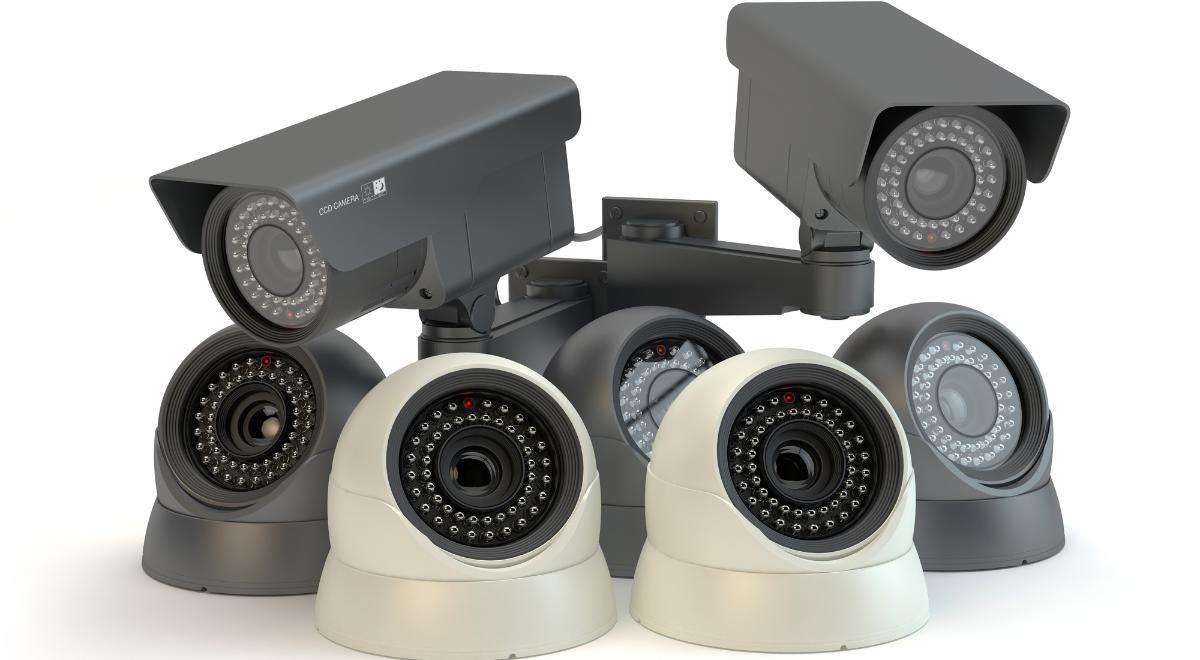camera: (102, 0, 1135, 660)
